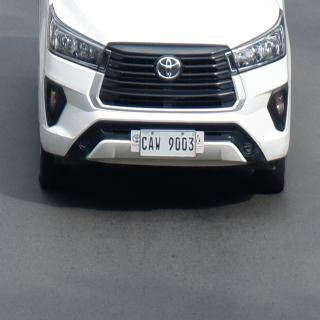license: (142, 131, 197, 157)
